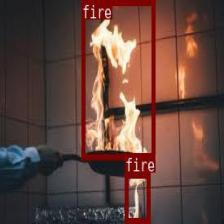fire: (81, 0, 155, 159), (124, 172, 149, 222)
